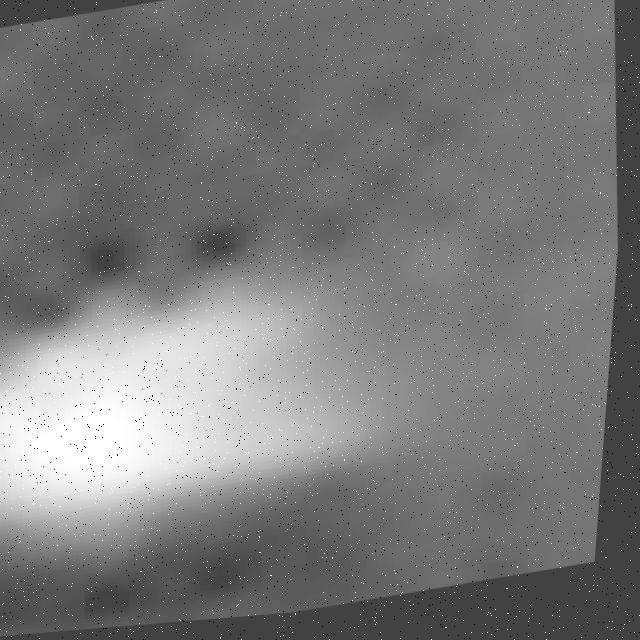person: (1, 259, 420, 547)
